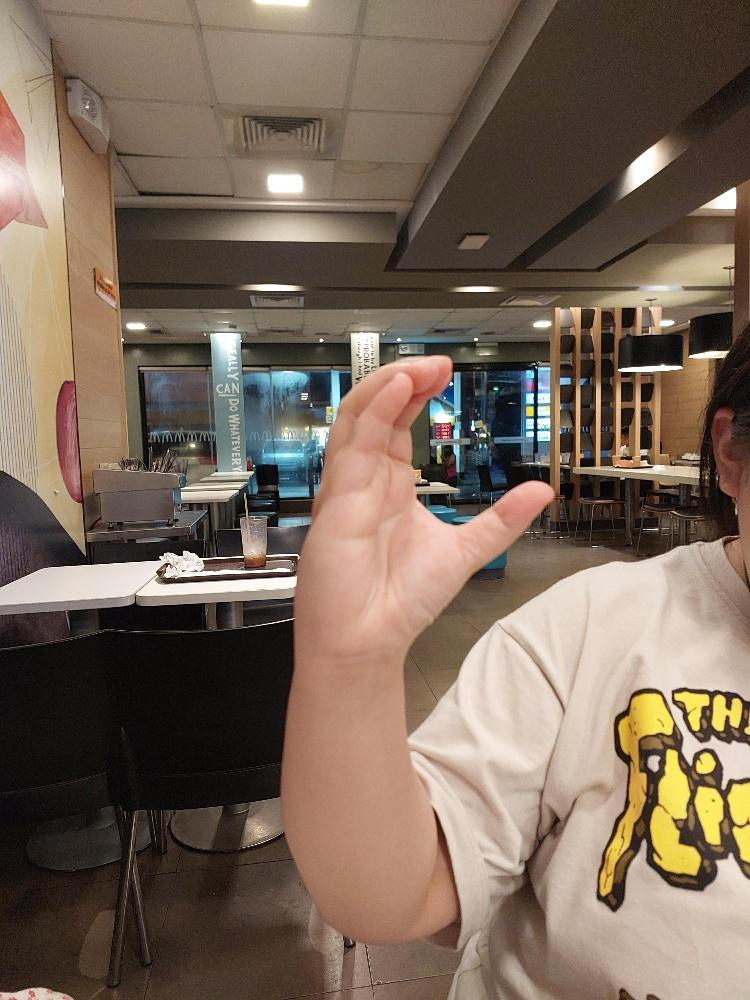c: (290, 352, 555, 655)
